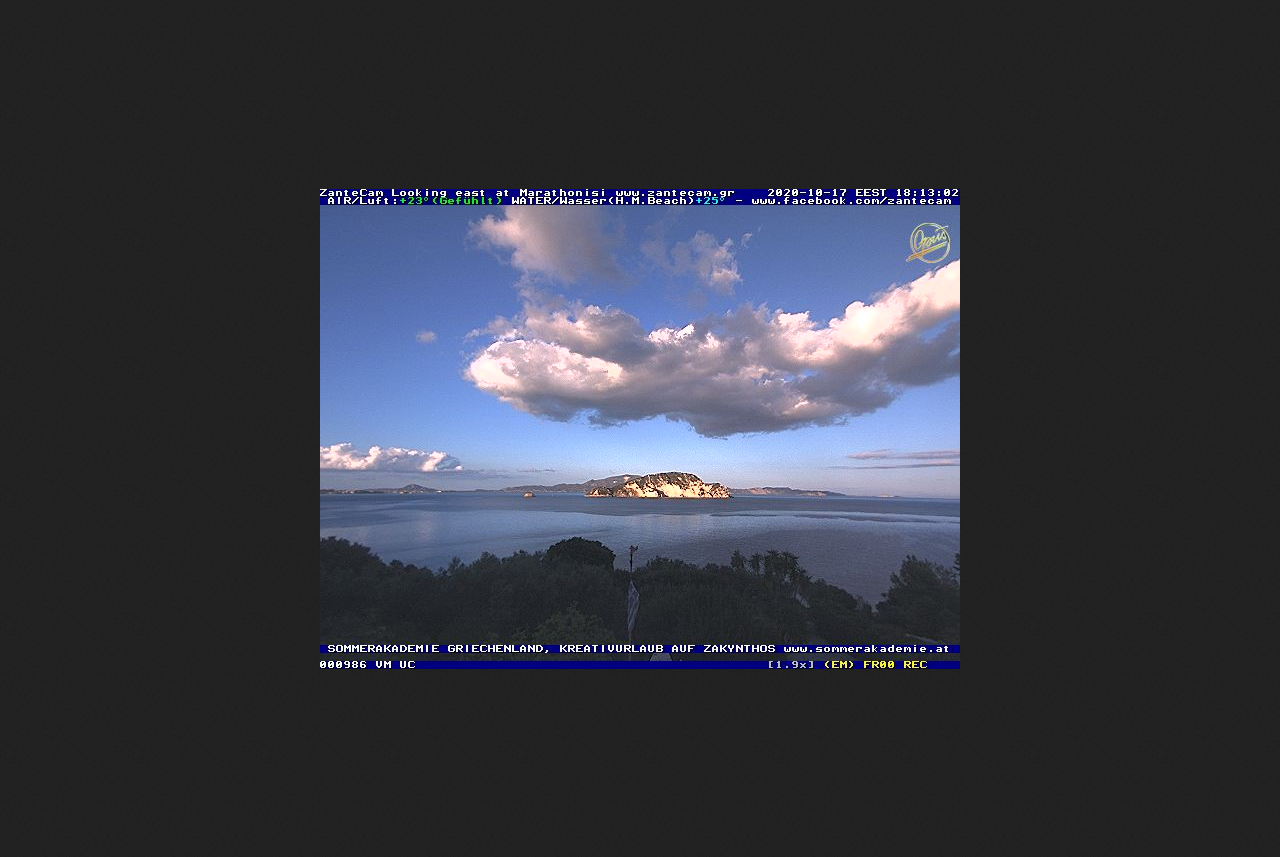no: (619, 575, 641, 640)
